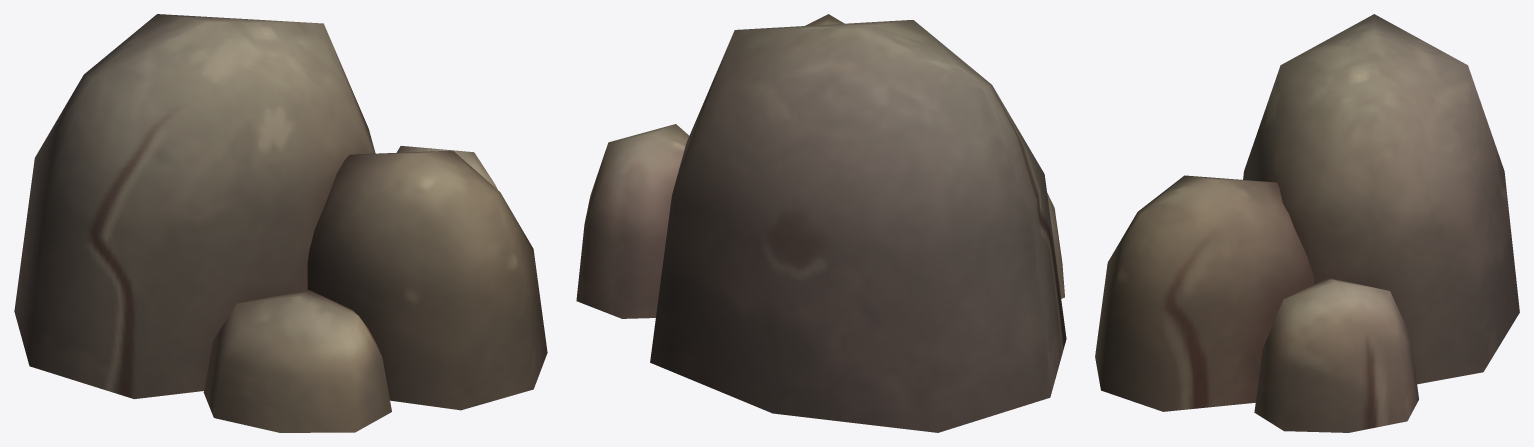
File: stones_round.fbx
The picture shows the model from 3 angles, left to right: view 1: azimuth 30°, elevation 25°; view 2: azimuth 150°, elevation 25°; view 3: azimuth 270°, elevation 25°; orthographic projection. The views are drawn at different scales.
Visible parts, largest first — view 1: stones_round; view 2: stones_round; view 3: stones_round.
Boxes of the visible parts, bbox=[...] form: stones_round: bbox=[14, 14, 547, 432]; stones_round: bbox=[576, 14, 1066, 432]; stones_round: bbox=[1095, 14, 1519, 432].
Bounding box in the file's own units: 105 × 67.29 × 94.56.
